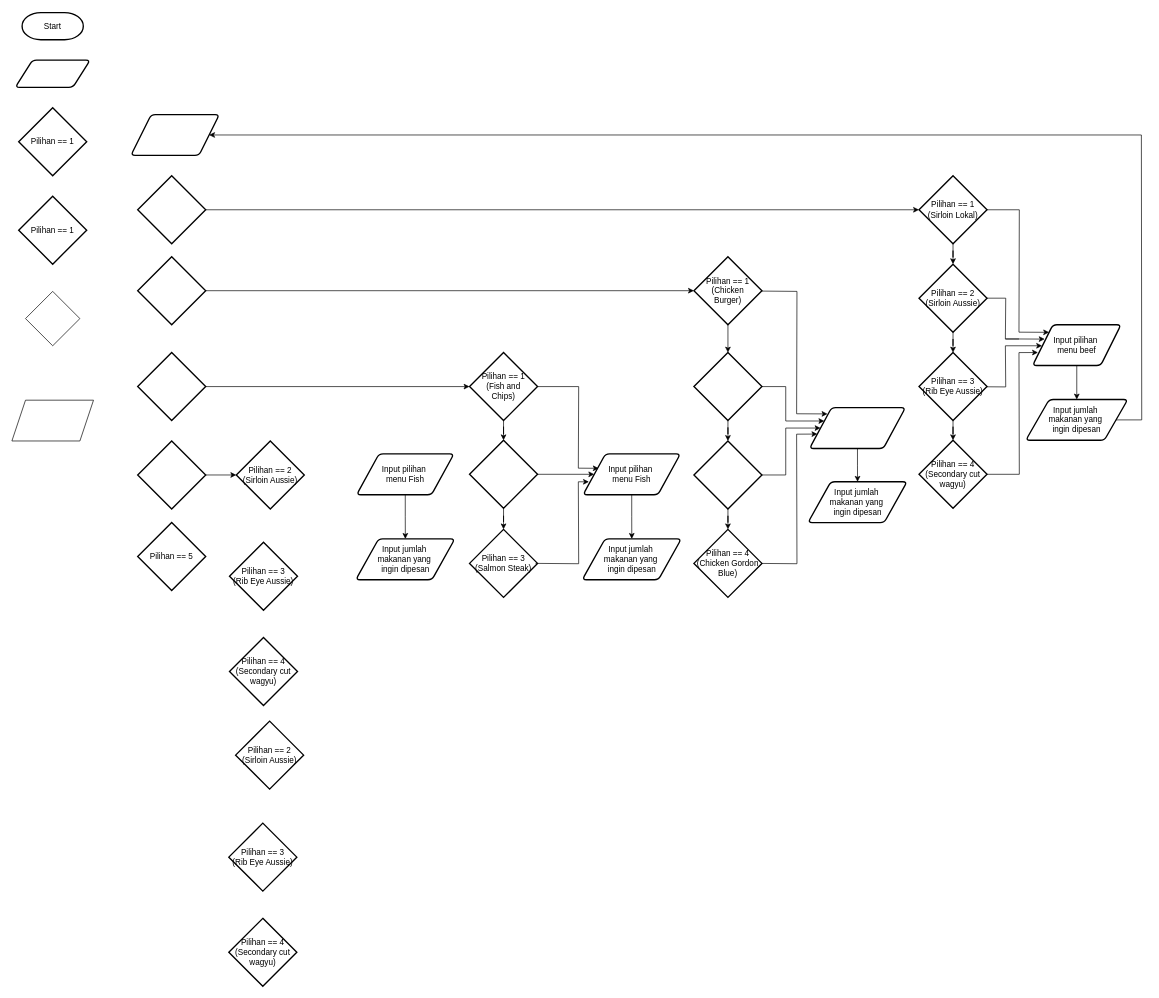
This 1159x998 diagram has some shape labels left out. Here are the shapes that lost their labels. From the top down, the centre of each, then its label:
At [52,73]: "Menu Utama".
At [175,135]: "Menu Olahan Makanan".
At [171,209]: "Pilihan == 1 (Beef)".
At [171,290]: "Pilihan == 2".
At [52,318]: "udh mesen?".
At [171,386]: "Pilihan == 3".
At [727,386]: "Pilihan == 2 (Chicken Steak)".
At [52,420]: "cout".
At [857,428]: "Input pilihan menu Chicken".
At [171,474]: "Pilihan == 4".
At [503,474]: "Pilihan == 2 (Marlin Steak)".
At [727,474]: "Pilihan == 3 (Chicken Schnitzel)".
